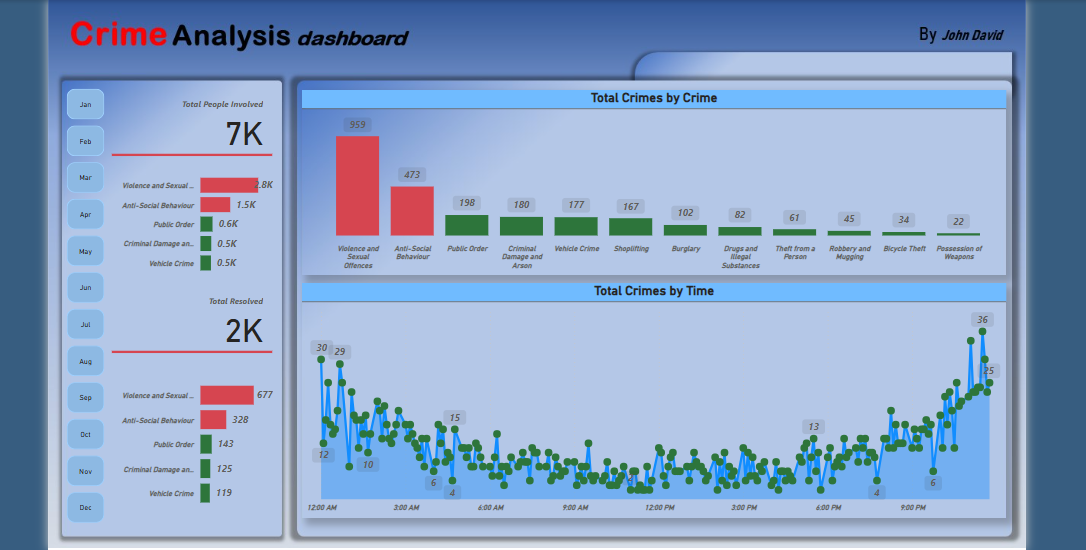

The dashboard page shown, as its layout file describes it:
{"tool":"powerbi","page":{"name":"Page 2","canvas":[1280,720],"ordinal":1},"visuals":[{"type":"clusteredColumnChart","fields":{"Category":["Crime Types.Crime"],"Y":["DAX Calculations.Total Crimes"]},"box":[332.9,118.2,922,241.5],"z":0},{"type":"areaChart","fields":{"Category":["Data.Time"],"Y":["DAX Calculations.Total Crimes"]},"box":[332.9,370,922,307.1],"z":1000},{"type":"cardVisual","fields":{"Data":["Sum(Data.People Involved)"]},"box":[78.8,110.9,220.8,98.2],"z":2000},{"type":"cardVisual","fields":{"Data":["Sum(Data.Resolved)"]},"box":[78.8,369.6,220.8,98.2],"z":3000},{"type":"clusteredBarChart","fields":{"Category":["Crime Types.Crime"],"Y":["Sum(Data.People Involved)"]},"box":[78.8,209.1,220.8,160.5],"z":4000},{"type":"clusteredBarChart","fields":{"Category":["Crime Types.Crime"],"Y":["Sum(Data.Resolved)"]},"box":[78.8,479.5,220.8,197.4],"z":5000},{"type":"advancedSlicerVisual","fields":{"Values":["Date table.Month Name"]},"box":[19.5,110.9,59.3,579.7],"z":6000}]}

Visuals, with their boxes on the page's 1280x720 design canvas (x1, y1, x2, y2). These are canvas units, not pixel positions in the 1086x550 screenshot, which may show the page scaled, cropped or inside an application window:
clusteredColumnChart - Crime Types.Crime x DAX Calculations.Total Crimes: {"x1": 333, "y1": 118, "x2": 1255, "y2": 360}
areaChart - Data.Time x DAX Calculations.Total Crimes: {"x1": 333, "y1": 370, "x2": 1255, "y2": 677}
cardVisual - Sum(Data.People Involved): {"x1": 79, "y1": 111, "x2": 300, "y2": 209}
cardVisual - Sum(Data.Resolved): {"x1": 79, "y1": 370, "x2": 300, "y2": 468}
clusteredBarChart - Crime Types.Crime x Sum(Data.People Involved): {"x1": 79, "y1": 209, "x2": 300, "y2": 370}
clusteredBarChart - Crime Types.Crime x Sum(Data.Resolved): {"x1": 79, "y1": 480, "x2": 300, "y2": 677}
advancedSlicerVisual - Date table.Month Name: {"x1": 20, "y1": 111, "x2": 79, "y2": 691}
